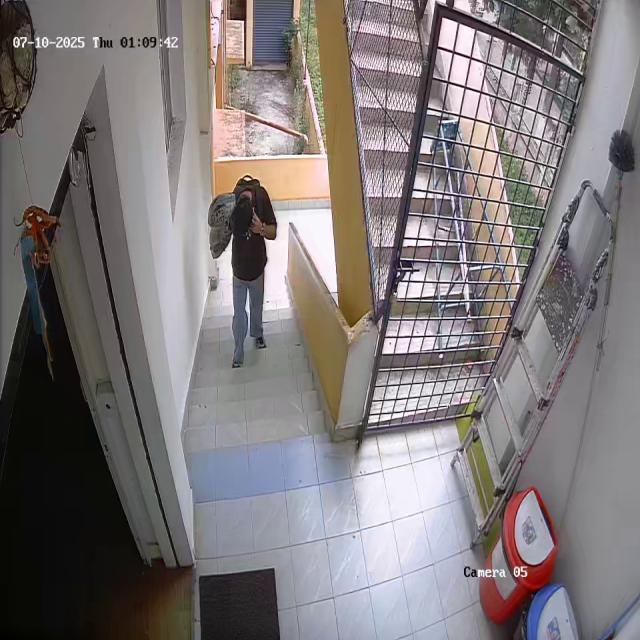person: (204, 176, 278, 362)
